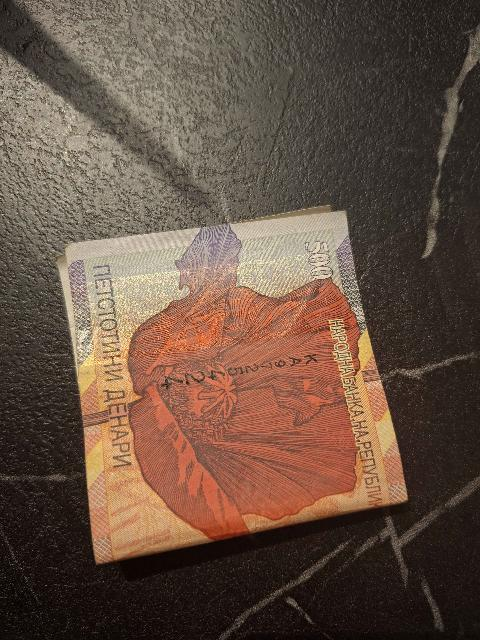note: (59, 208, 406, 562)
